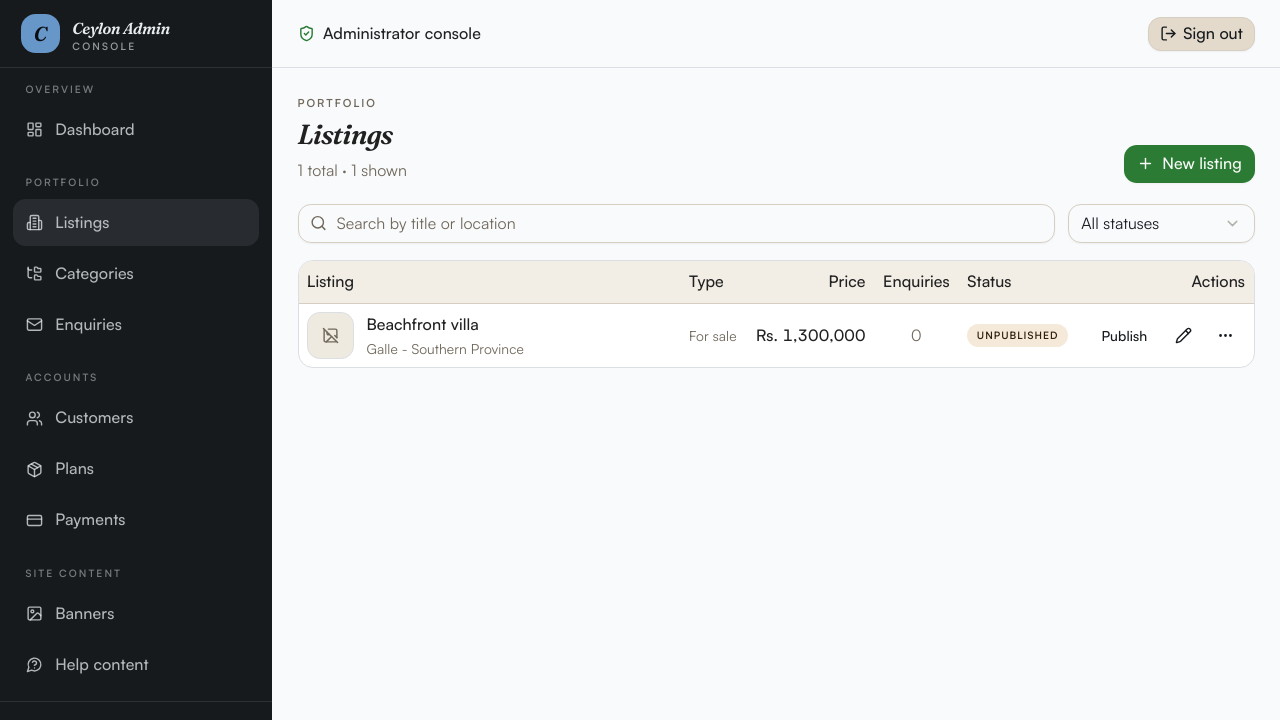
Test: admin listings management › publishes an unpublished listing through the backend
This screenshot has width=1280, height=720.
Expected: the row with test id "admin_listings.row.1" is shown, [298, 303, 1254, 367]
Click the button with test id "admin_listings.toggle.1". click: (1124, 336)
box: [1089, 318, 1160, 352]
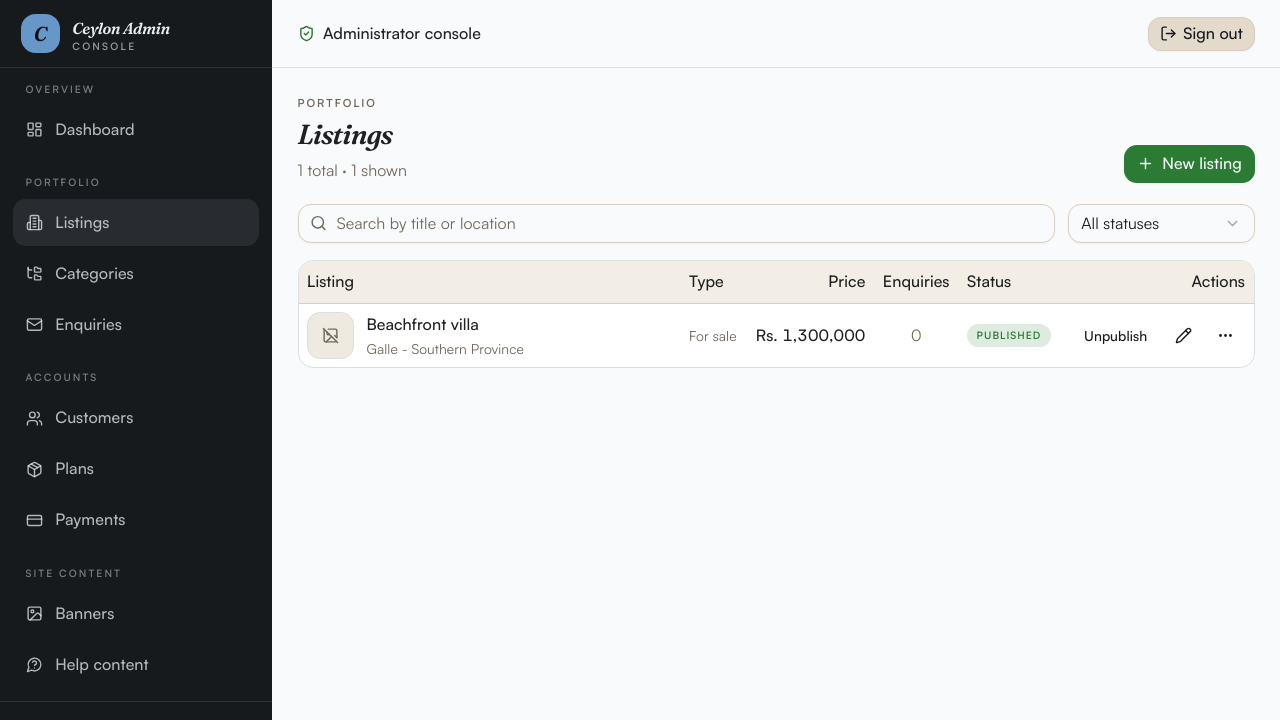
Now the text with test id "admin_listings.status.1" reads "Published", box [977, 329, 1041, 341]
